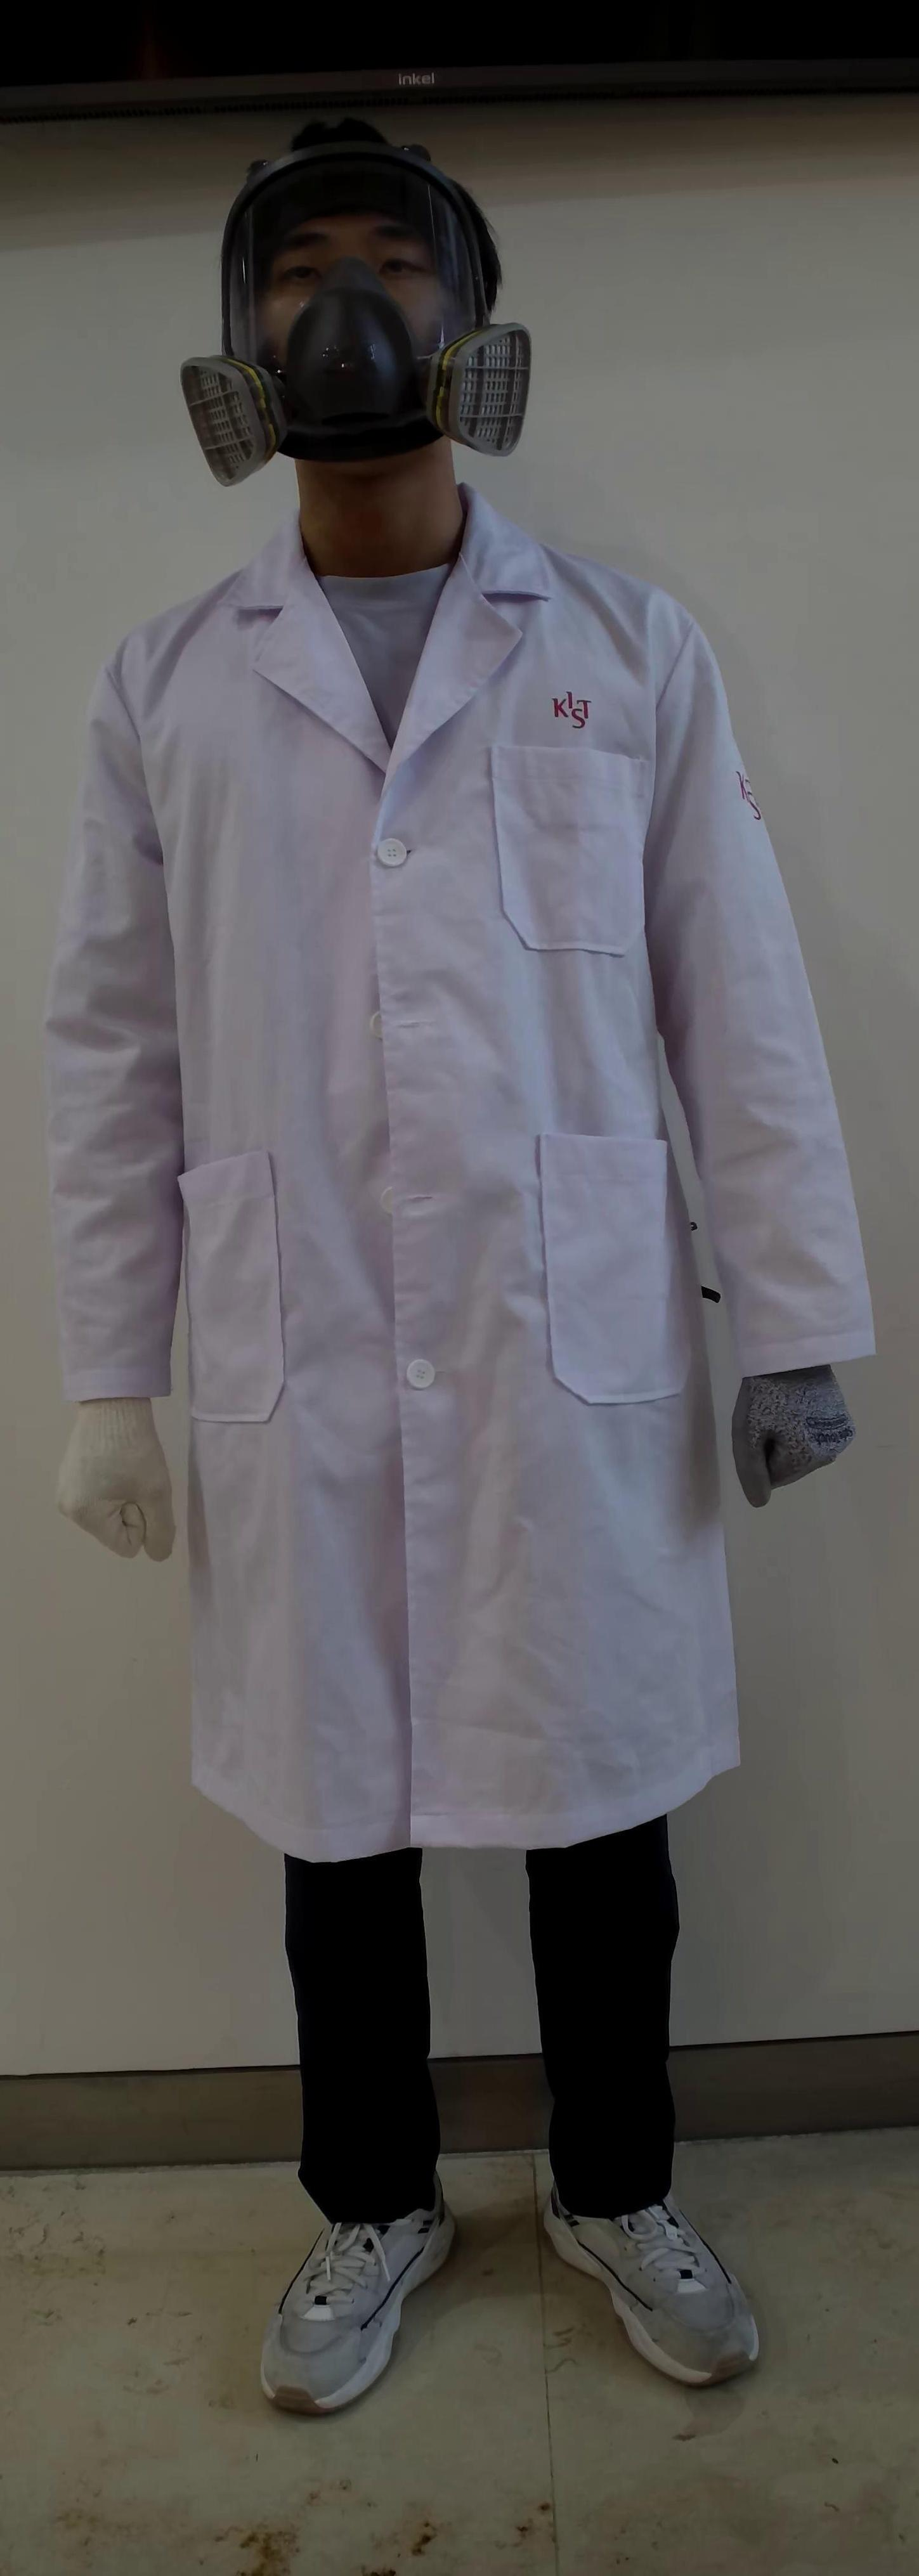lab_coat: (161, 636, 705, 1815)
